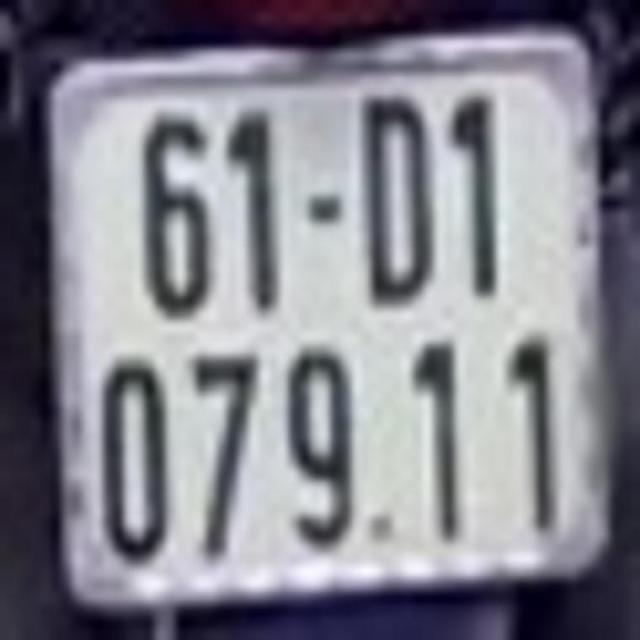0: (104, 356, 167, 564)
1: (444, 90, 498, 305), (406, 342, 462, 540), (223, 111, 276, 312), (502, 334, 550, 534)
6: (138, 111, 206, 312)
7: (188, 353, 256, 560)
9: (288, 344, 352, 550)
D: (362, 92, 432, 296)
